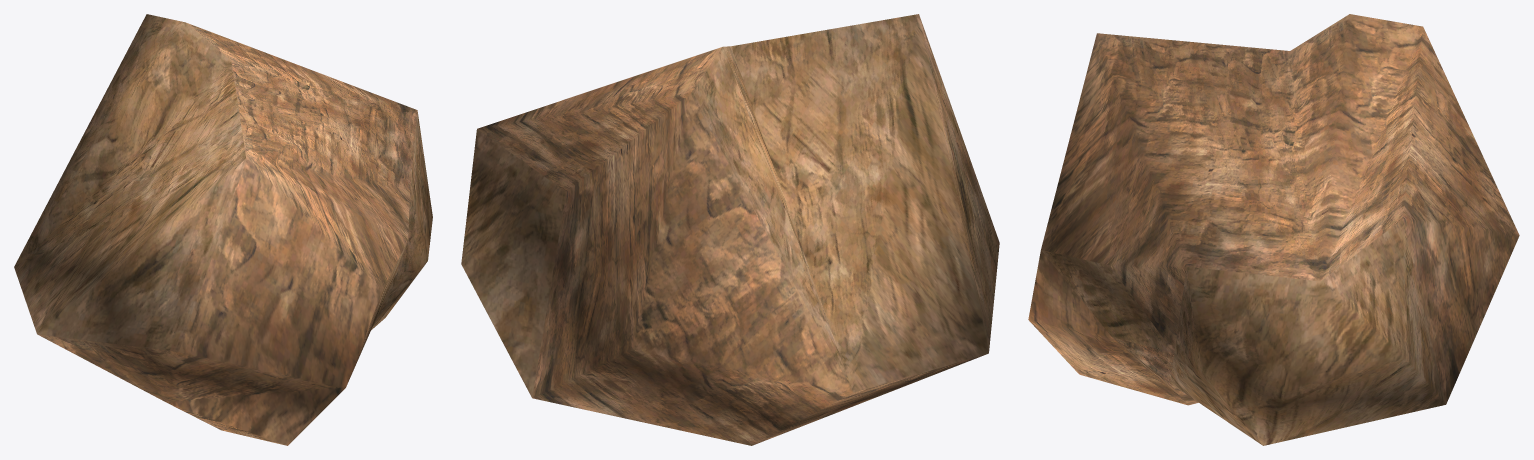
File: rock_tatt_bensmesa_boulder_l2.fbx
3 renders of one model, left to right at view 1: azimuth 30°, elevation 25°; view 2: azimuth 150°, elevation 25°; view 3: azimuth 270°, elevation 25°, orthographic. The views are drawn at different scales.
Parts seen in each view (by area): view 1: mesh_node; view 2: mesh_node; view 3: mesh_node.
Boxes of the visible parts, left/top/right/bottom form: mesh_node: left=14, top=14, right=432, bottom=445; mesh_node: left=461, top=14, right=999, bottom=445; mesh_node: left=1028, top=14, right=1519, bottom=445.
Size of the model in its own units: 3.28 by 2.64 by 3.07.
